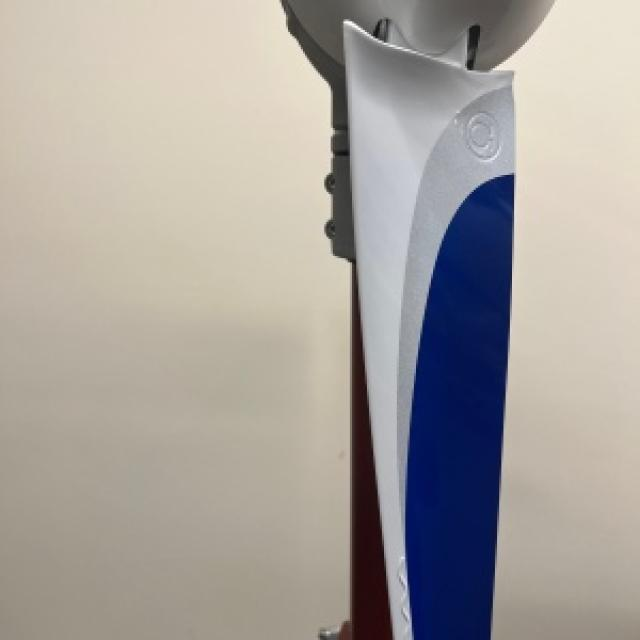healthy: (279, 0, 550, 638)
